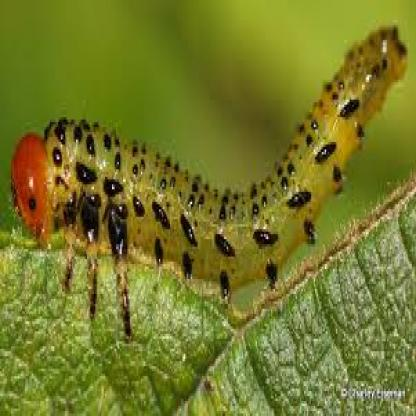sawfly: (9, 21, 416, 322)
